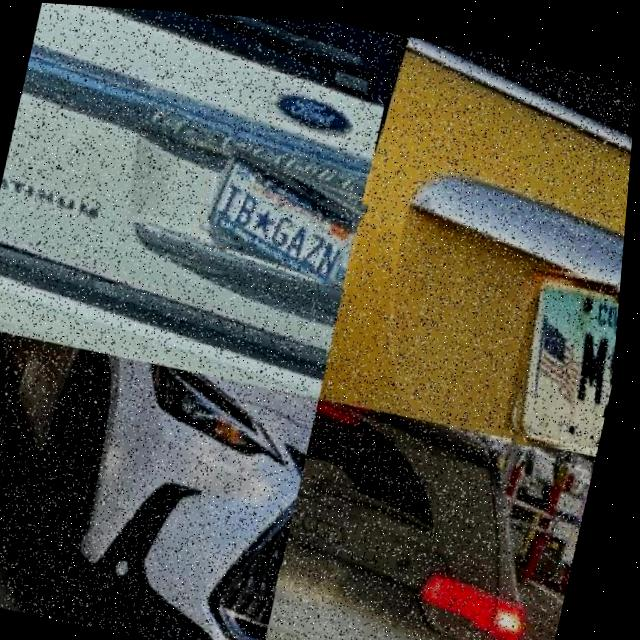LicensePlate: (209, 143, 366, 282), (523, 263, 623, 440), (286, 532, 360, 603)
